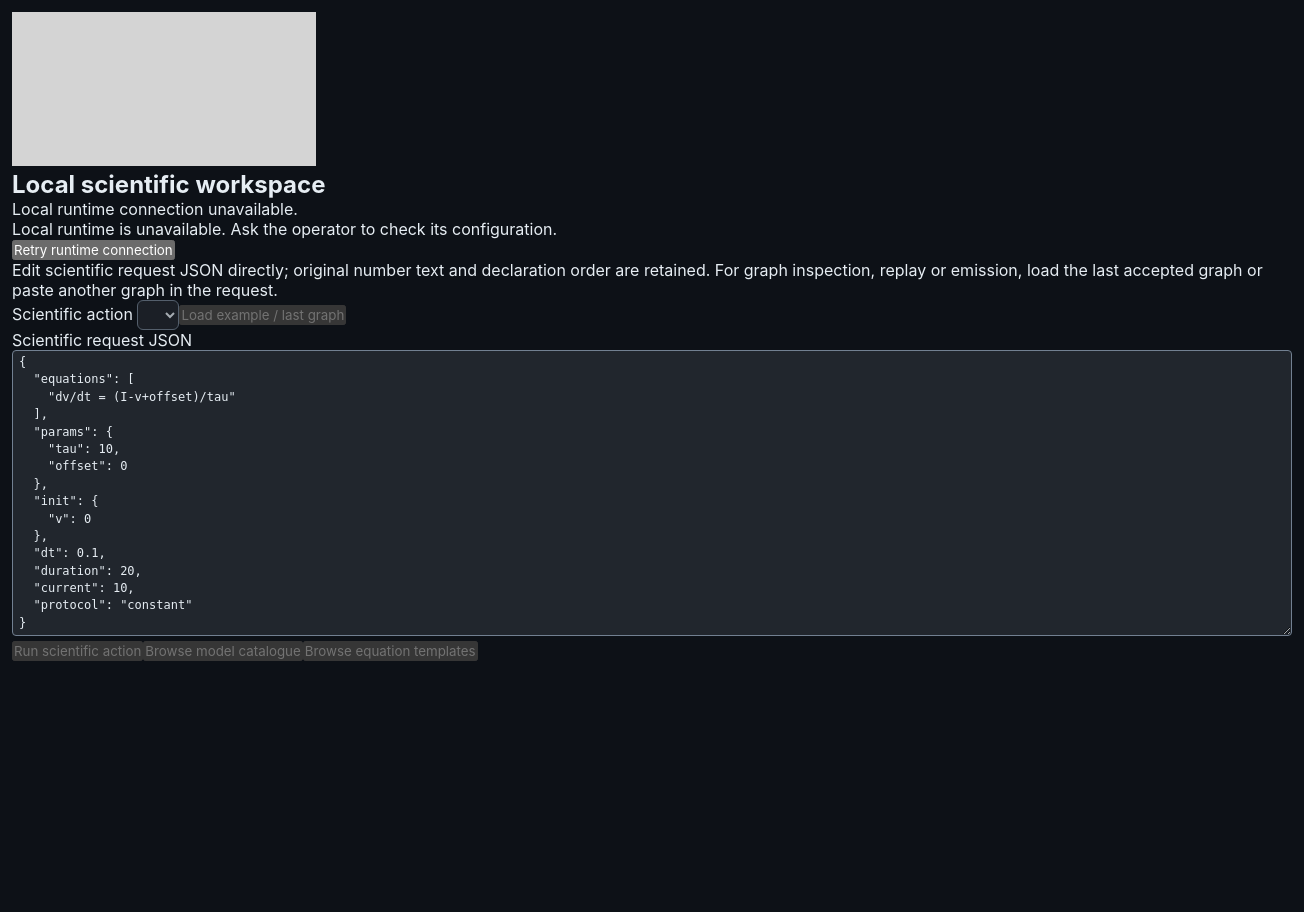
Scenario: keeps backend refusals explicit and permits an actual connection retry
Click the button "Retry runtime connection". click: (93,250)
box: [12, 240, 175, 260]
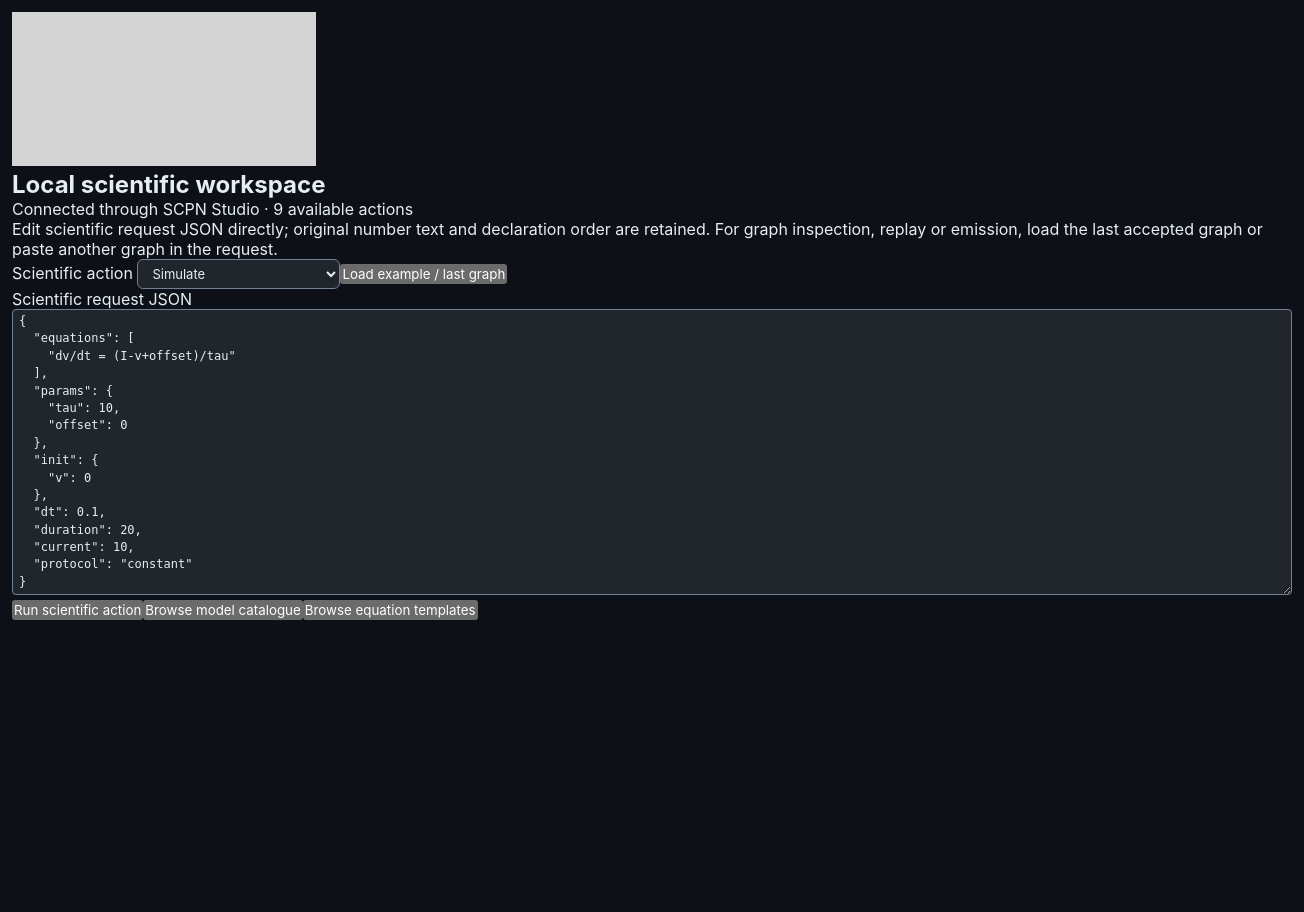
Check: the text "9 available actions" is shown, box [12, 199, 413, 219]
